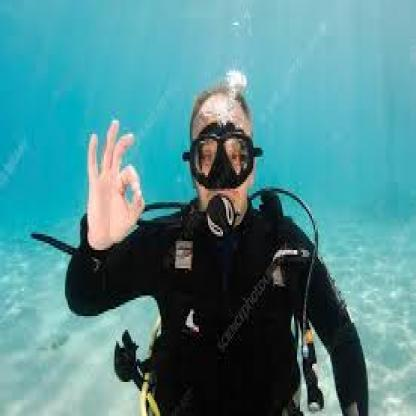ok: (88, 116, 146, 251)
